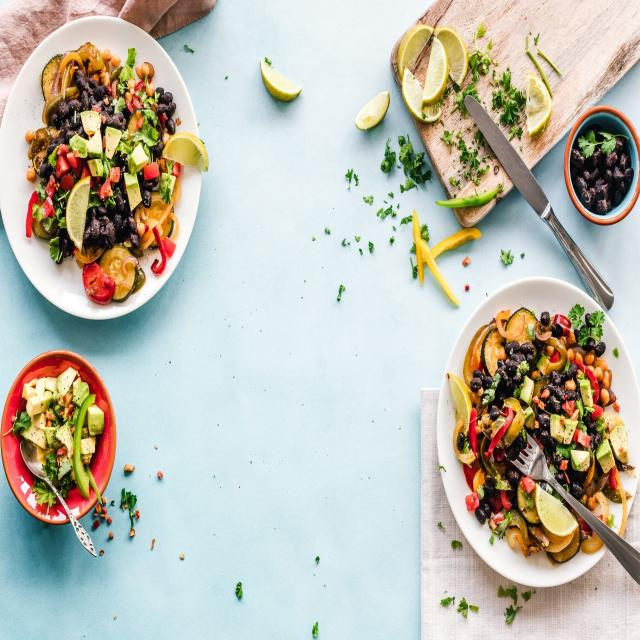Food -Biodegradable-: (445, 309, 626, 560), (20, 47, 198, 297), (15, 365, 104, 484), (401, 23, 471, 115), (569, 120, 637, 206), (523, 68, 554, 130)
